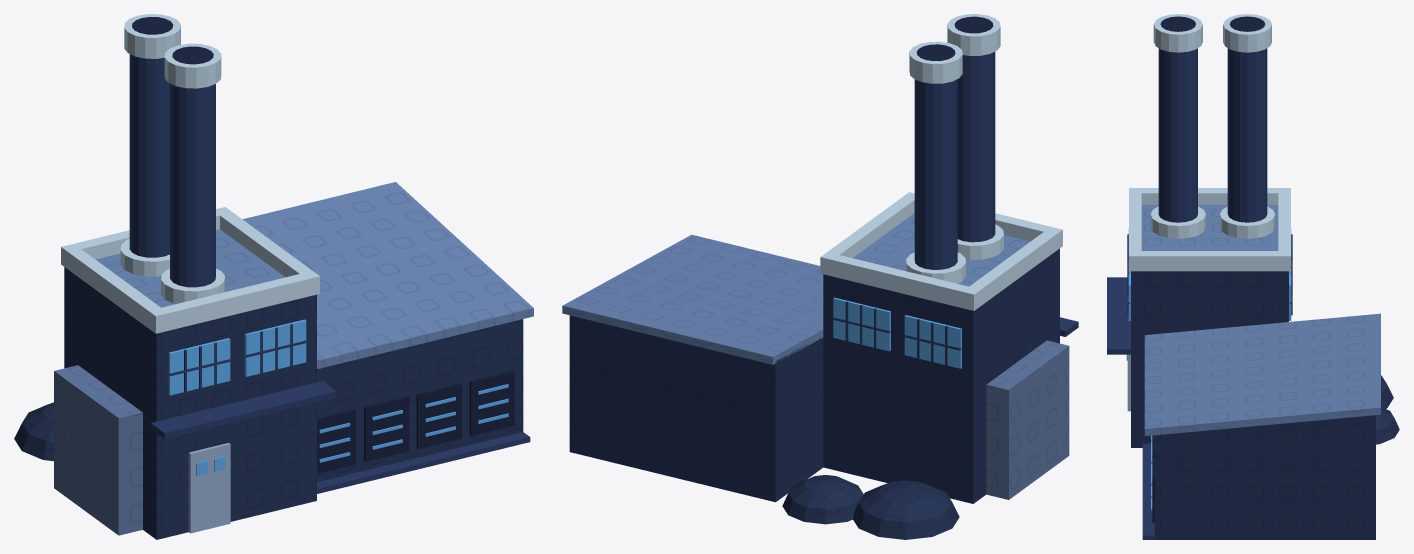
File: Usine_Electrique.glb
The picture shows the model from 3 angles, left to right: view 1: azimuth 30°, elevation 25°; view 2: azimuth 150°, elevation 25°; view 3: azimuth 270°, elevation 25°; orthographic projection. The views are drawn at different scales.
Visible parts, largest first — view 1: Usine_Electrique; view 2: Usine_Electrique; view 3: Usine_Electrique.
Boxes of the visible parts, x1=… form: Usine_Electrique: x1=14, y1=14, x2=533, y2=539; Usine_Electrique: x1=562, y1=14, x2=1078, y2=539; Usine_Electrique: x1=1107, y1=14, x2=1399, y2=539.
Size of the model in its own units: 10.22 by 10.71 by 7.4.
Materials: 9 (4 with a texture image).
